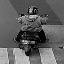motor: (15, 5, 43, 55)
